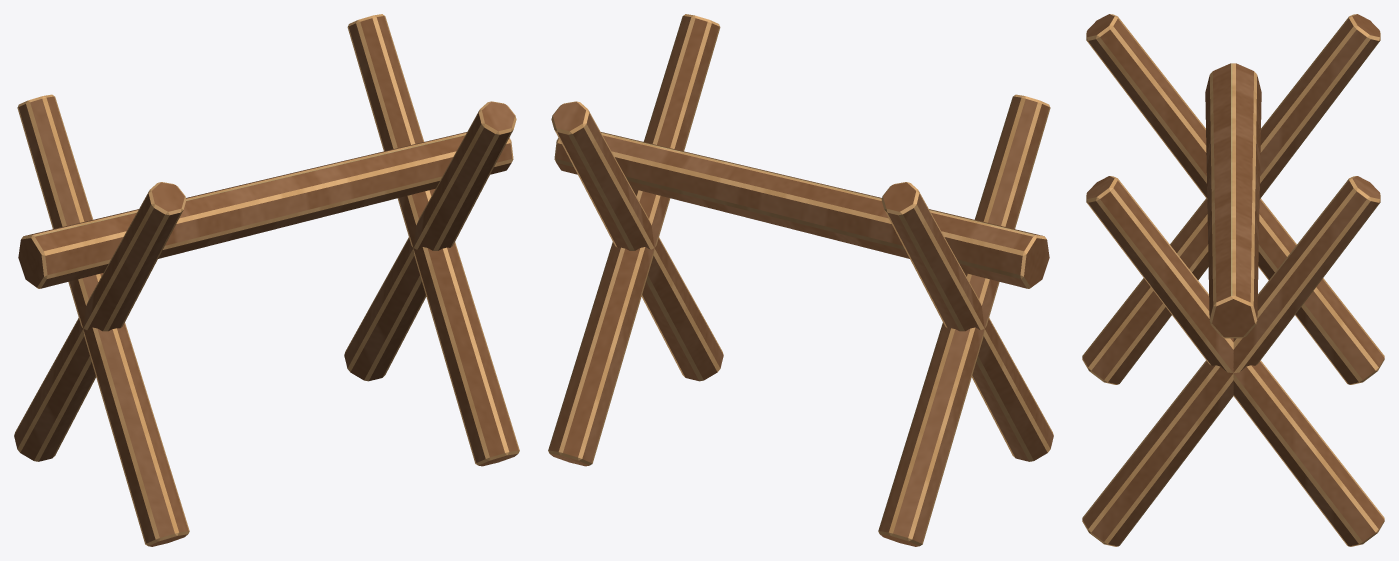
File: sm_barricade.glb
3 views of the same model, side by side, from view 1: azimuth 30°, elevation 25°; view 2: azimuth 150°, elevation 25°; view 3: azimuth 270°, elevation 25° (orthographic).
Parts seen in each view (by area): view 1: sm_barricade; view 2: sm_barricade; view 3: sm_barricade.
Part boxes in pixels (x1=…): sm_barricade: x1=14, y1=14, x2=519, y2=546; sm_barricade: x1=548, y1=14, x2=1053, y2=546; sm_barricade: x1=1082, y1=14, x2=1384, y2=546.
Size of the model in its own units: 1 by 0.7354 by 0.5522.
Materials: 1 (1 with a texture image).
